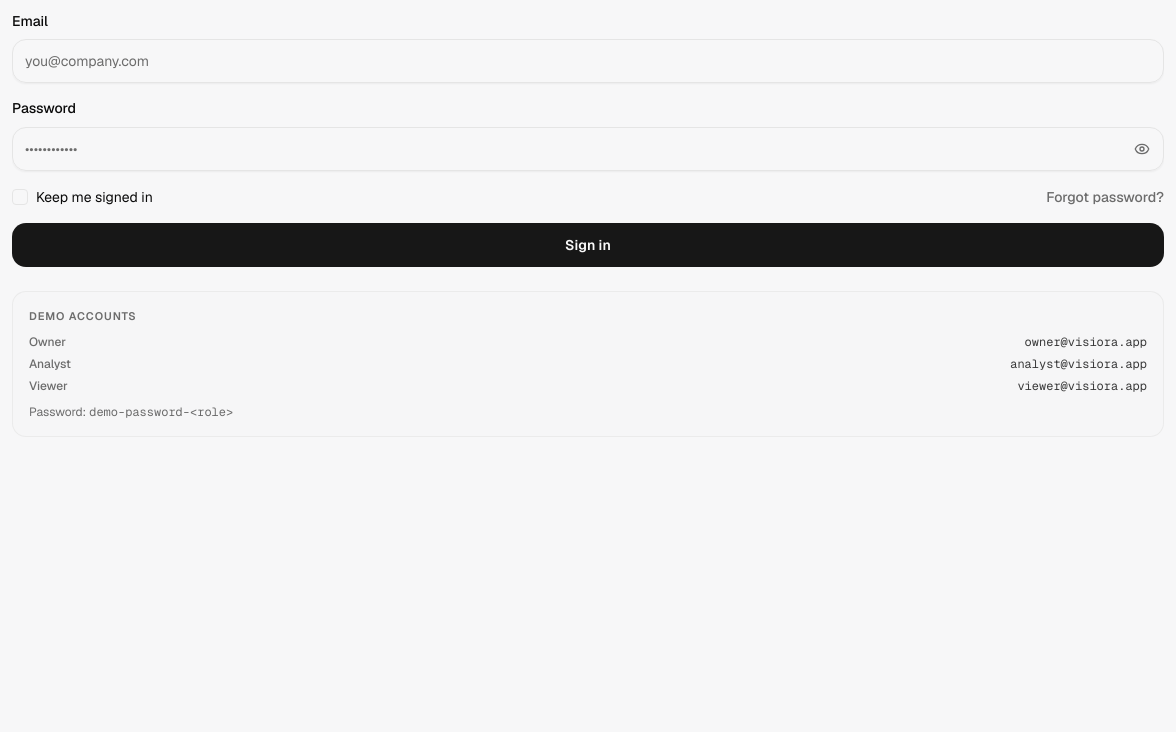
Test: LoginForm › shows field-level errors returned by the action
Click the button "Sign in".
click(588, 244)  # box x1=12 y1=222 x2=1164 y2=266
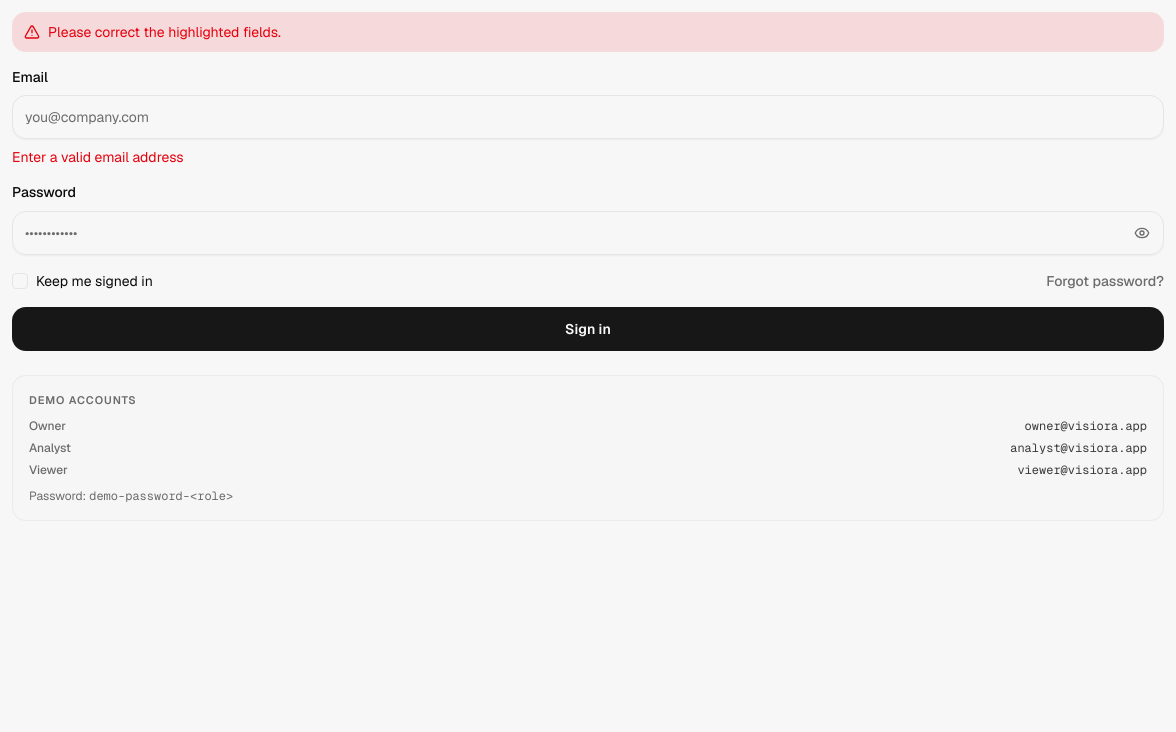
Result: the text "Enter a valid email address" is shown at x1=12 y1=148 x2=184 y2=166
